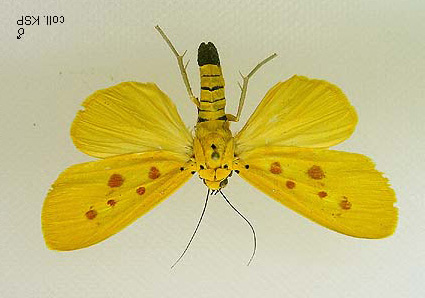Agape chloropyga: (30, 23, 402, 271)
moth: (32, 25, 404, 273)
